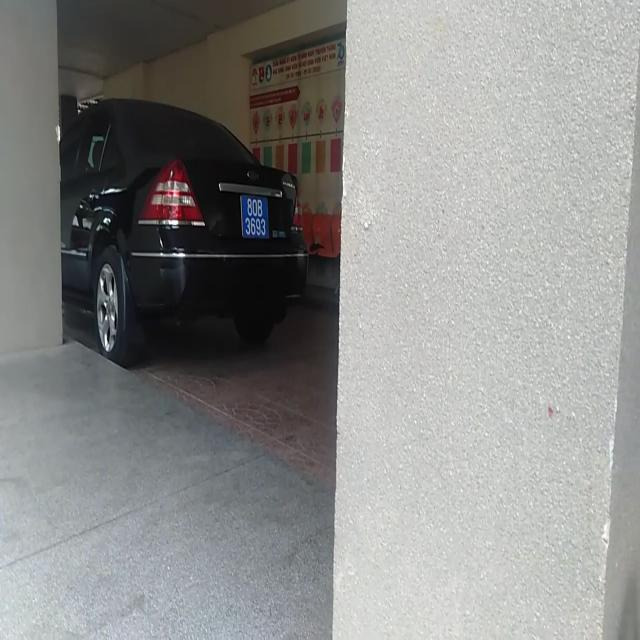bien_xanh: (238, 191, 268, 240)
